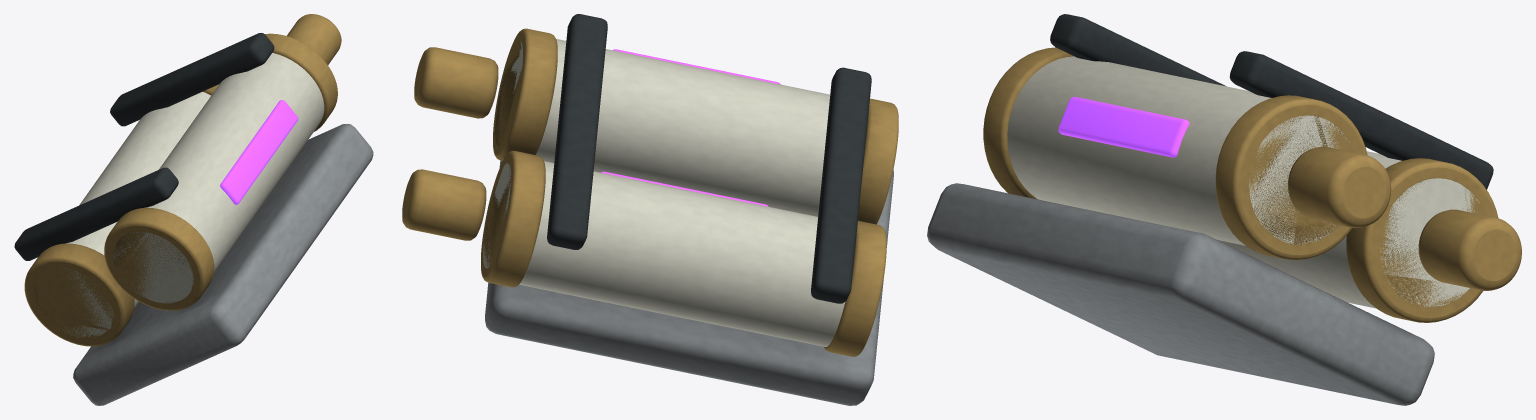
3 views of the same model, side by side, from view 1: azimuth 30°, elevation 25°; view 2: azimuth 150°, elevation 25°; view 3: azimuth 270°, elevation 25° (orthographic). The views are drawn at different scales.
Parts seen in each view (by area): view 1: Gamma cell support cradle; view 2: Gamma cell support cradle; view 3: Gamma cell support cradle.
Boxes of the visible parts, x1=… form: Gamma cell support cradle: x1=14, y1=14, x2=373, y2=405; Gamma cell support cradle: x1=402, y1=14, x2=898, y2=405; Gamma cell support cradle: x1=927, y1=14, x2=1521, y2=405.
Size of the model in its own units: 1.15 by 0.9495 by 1.17.
Materials: 1 (1 with a texture image).
